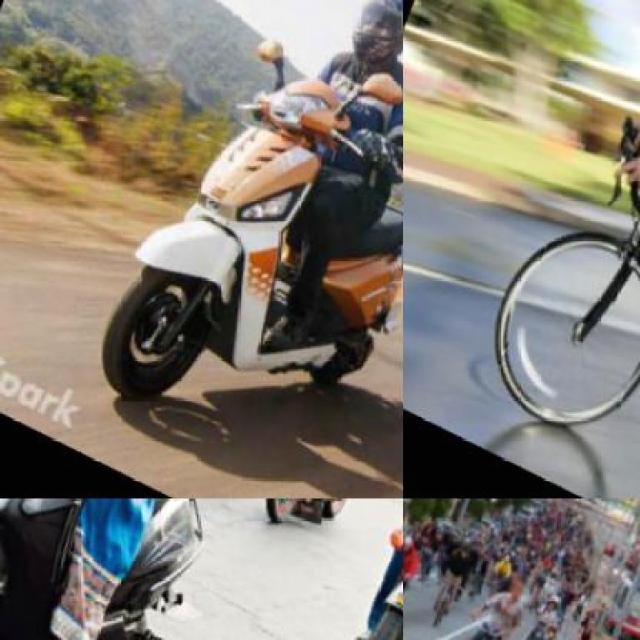With Helmet: (323, 0, 402, 83)
Without Helmet: (498, 570, 520, 596)
